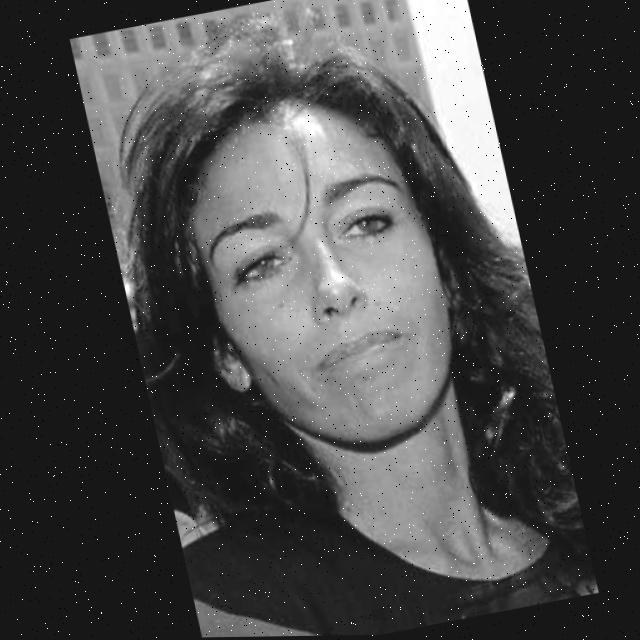face: (155, 82, 470, 465)
